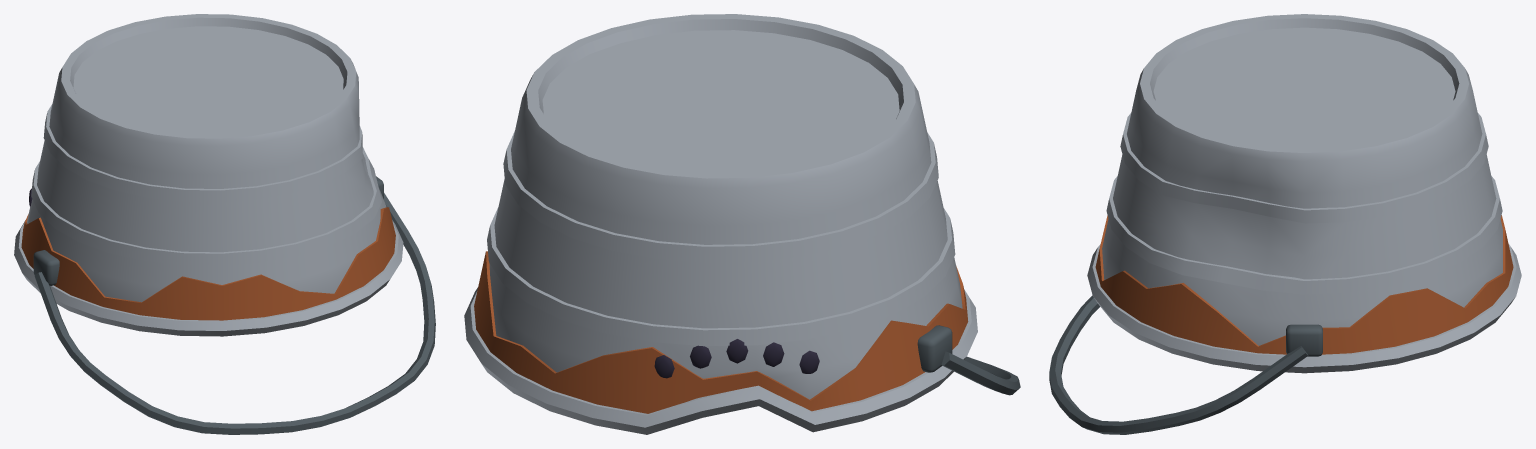
The model's file is hat_bucket.glb.
3 views of the same model, side by side, from view 1: azimuth 30°, elevation 25°; view 2: azimuth 150°, elevation 25°; view 3: azimuth 270°, elevation 25° (orthographic). The views are drawn at different scales.
Parts seen in each view (by area): view 1: Hat; view 2: Hat; view 3: Hat.
Boxes of the visible parts, x1=… form: Hat: x1=14, y1=14, x2=435, y2=434; Hat: x1=464, y1=14, x2=1020, y2=434; Hat: x1=1049, y1=14, x2=1521, y2=434.
Bounding box in the file's own units: 0.7478 × 0.5327 × 0.7636.
